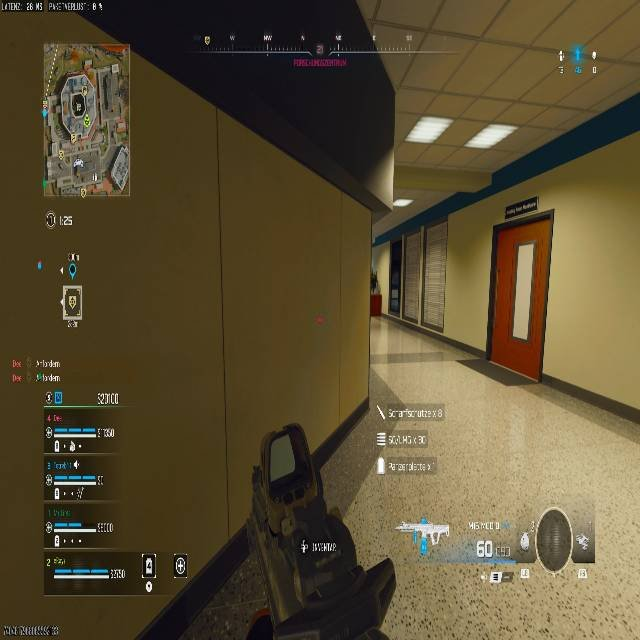player: (370, 271, 378, 293)
